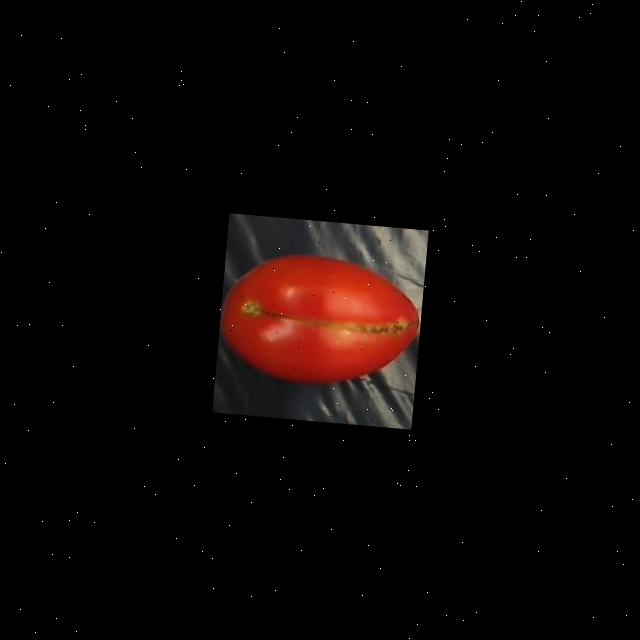tomato: (214, 238, 426, 408)
